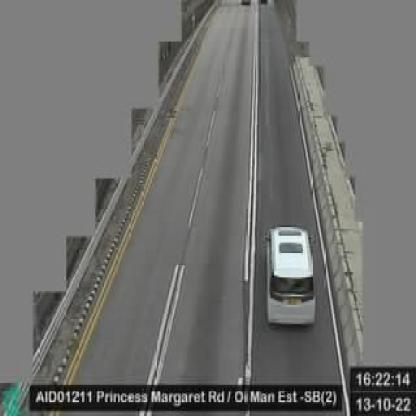Car: (264, 224, 317, 328)
